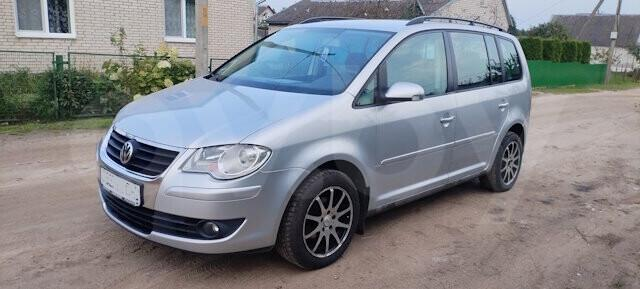Touran_2006-2010: (95, 15, 533, 267)
